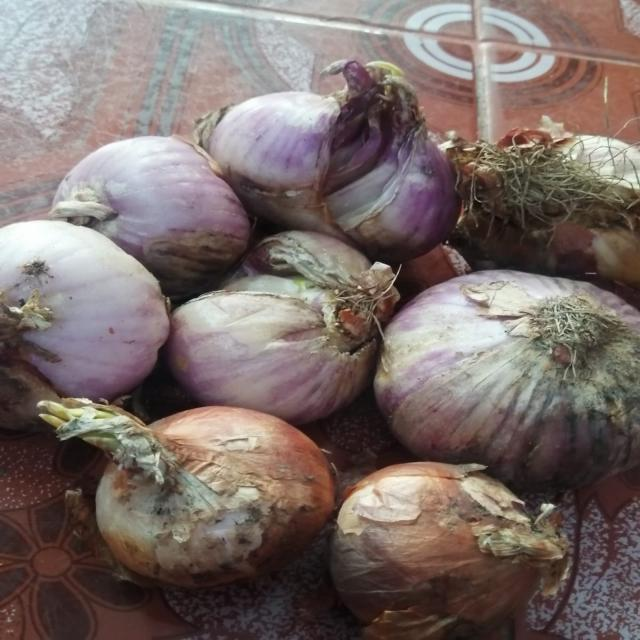rotten: (440, 356, 640, 435), (340, 115, 402, 222), (229, 246, 316, 308)
sprouting: (42, 411, 144, 454)
